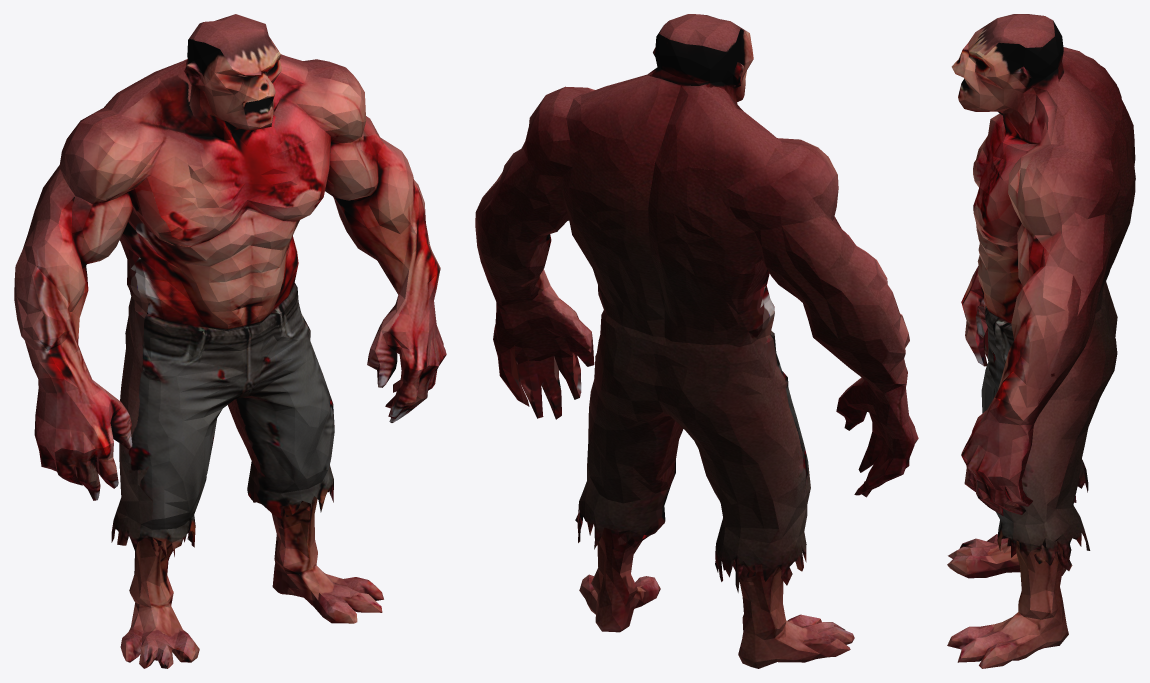
File: z_brute.glb
3 renders of one model, left to right at view 1: azimuth 30°, elevation 25°; view 2: azimuth 150°, elevation 25°; view 3: azimuth 270°, elevation 25°, orthographic. The views are drawn at different scales.
Visible parts, largest first — view 1: temp_mesh.ply; view 2: temp_mesh.ply; view 3: temp_mesh.ply.
Boxes of the visible parts, x1=… form: temp_mesh.ply: x1=14, y1=14, x2=446, y2=668; temp_mesh.ply: x1=475, y1=14, x2=918, y2=668; temp_mesh.ply: x1=947, y1=14, x2=1135, y2=668.
Bounding box in the file's own units: 1.42 × 1.97 × 0.5748.
Materials: 1 (1 with a texture image).
